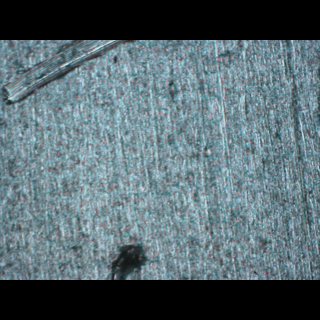d: (2, 40, 143, 109), (107, 240, 152, 280)
